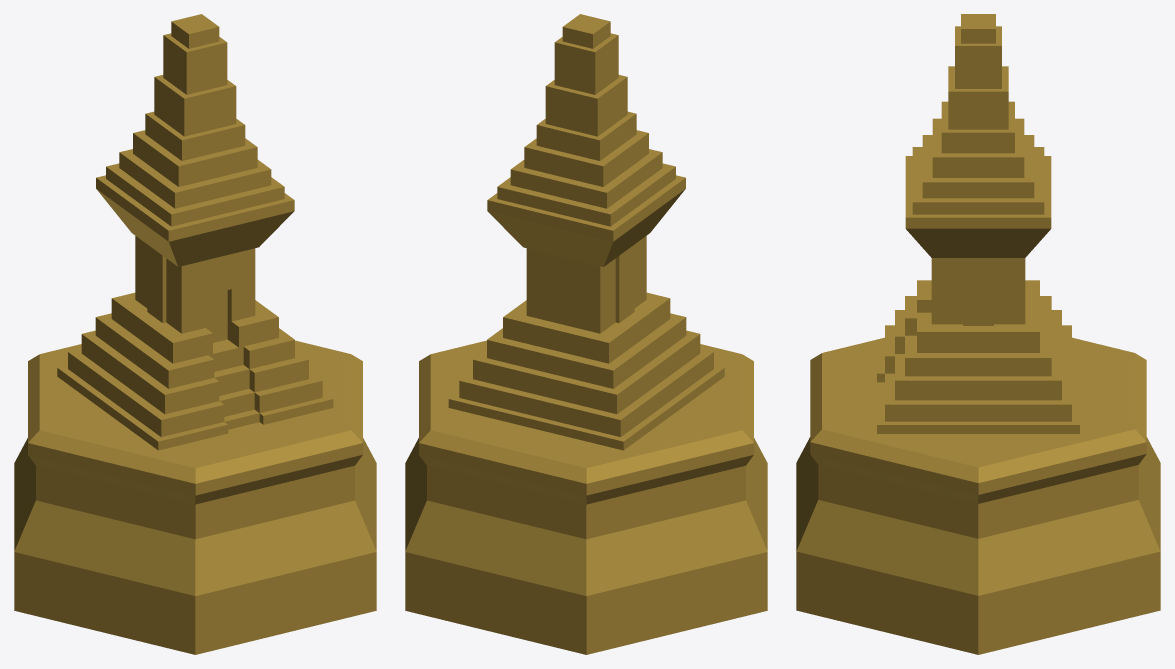
File: City.fbx
3 views of the same model, side by side, from view 1: azimuth 30°, elevation 25°; view 2: azimuth 150°, elevation 25°; view 3: azimuth 270°, elevation 25° (orthographic).
Visible parts, largest first — view 1: Model, Group1; view 2: Model, Group1; view 3: Model, Group1.
Boxes of the visible parts, bbox=[...] form: Model: bbox=[14, 340, 376, 654]; Group1: bbox=[57, 14, 333, 450]; Model: bbox=[405, 340, 767, 654]; Group1: bbox=[448, 14, 724, 450]; Model: bbox=[796, 337, 1160, 654]; Group1: bbox=[877, 14, 1079, 433].
Bounding box in the file's own units: 6 × 8.57 × 5.2.
